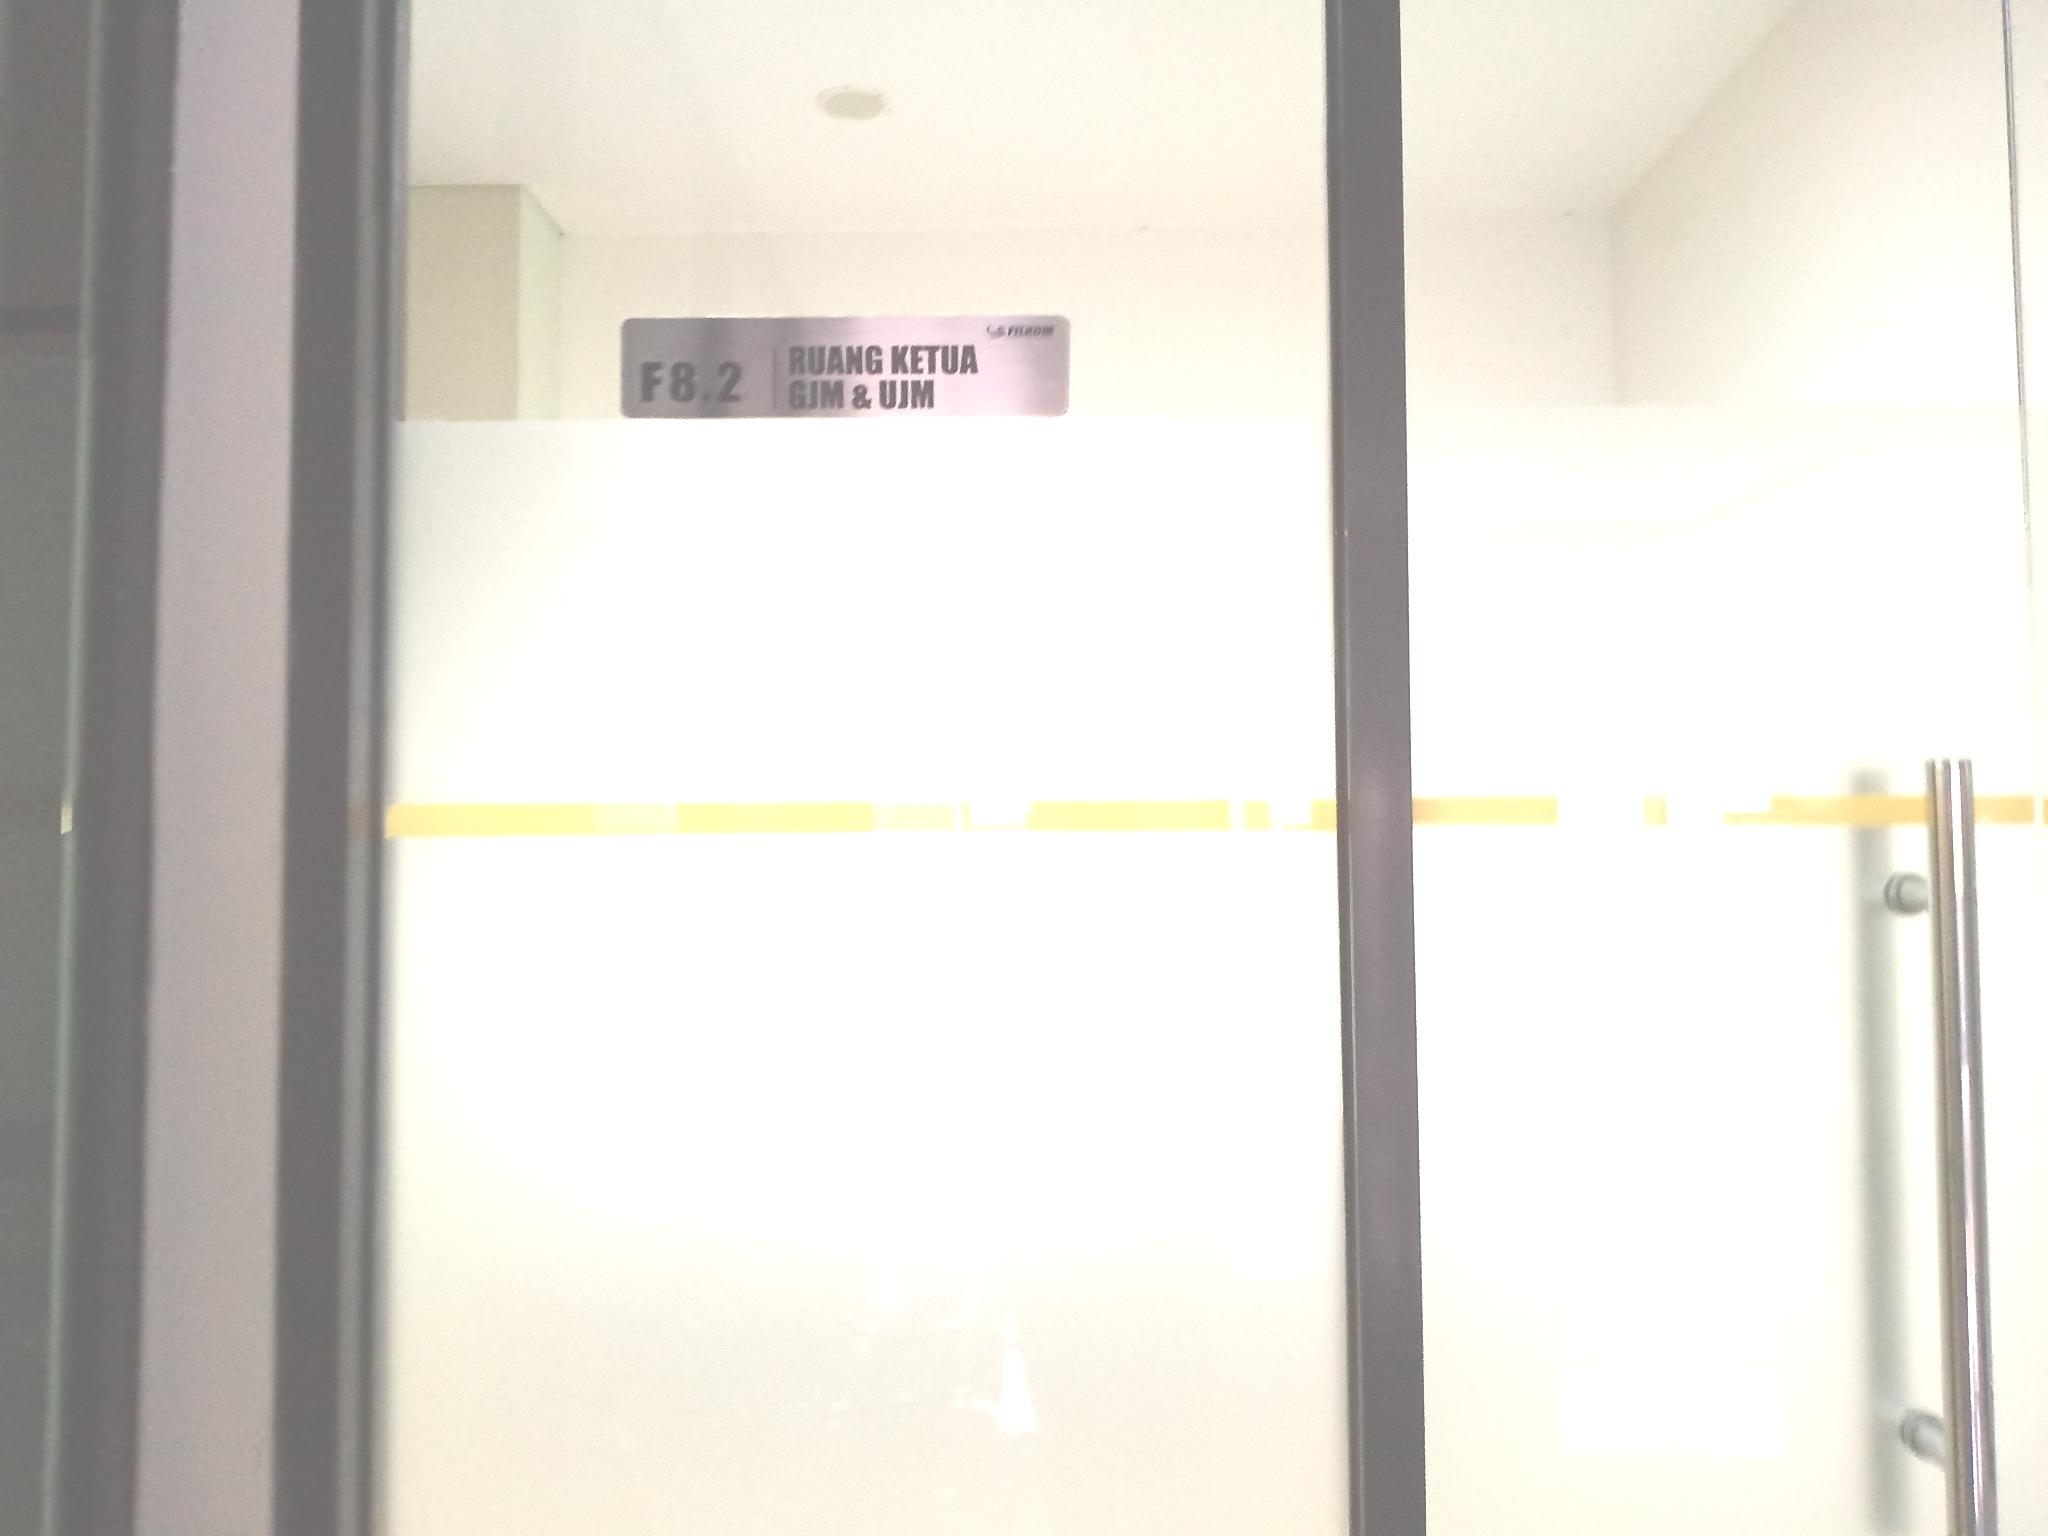plate: (613, 316, 1072, 421)
